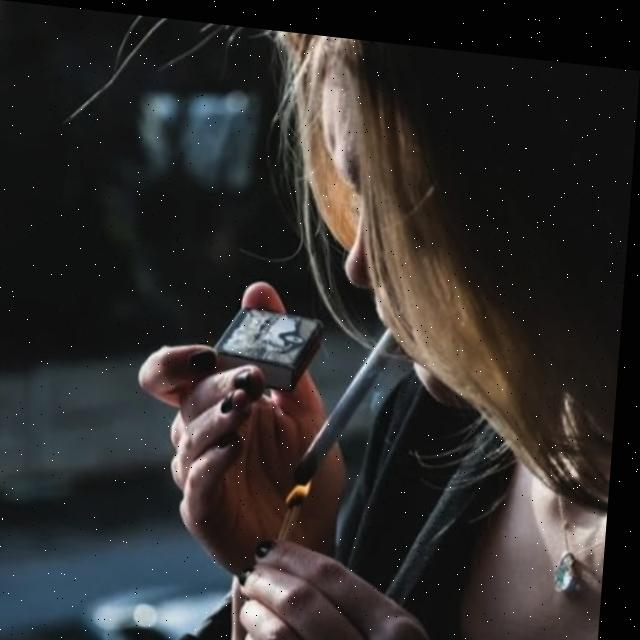cigarette: (298, 310, 406, 485)
